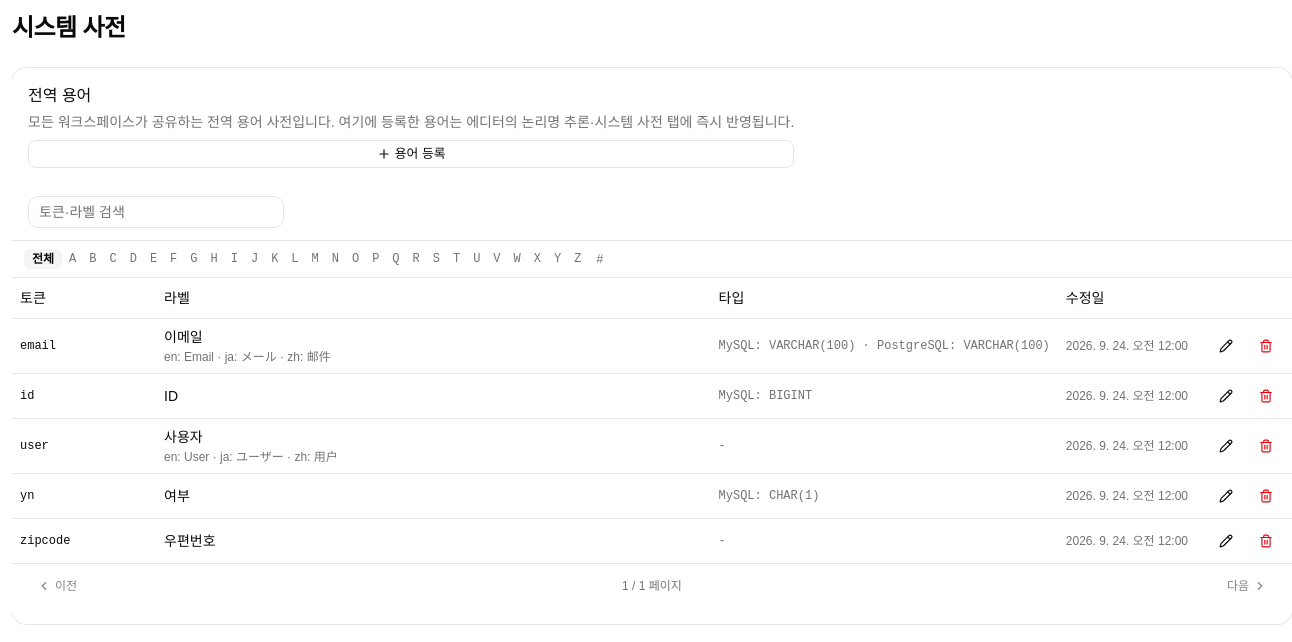
Test: 시스템 사전 관리 화면 › 알파벳 이니셜(e) — 그 이니셜 토큰만 나오고 전체로 돌아간다
Check: the row with test id "system-term-row-email" is shown, box [12, 318, 1291, 373]
Click the button with test id "admin-term-letter-e" at {"x": 154, "y": 259}, box [144, 249, 163, 269]
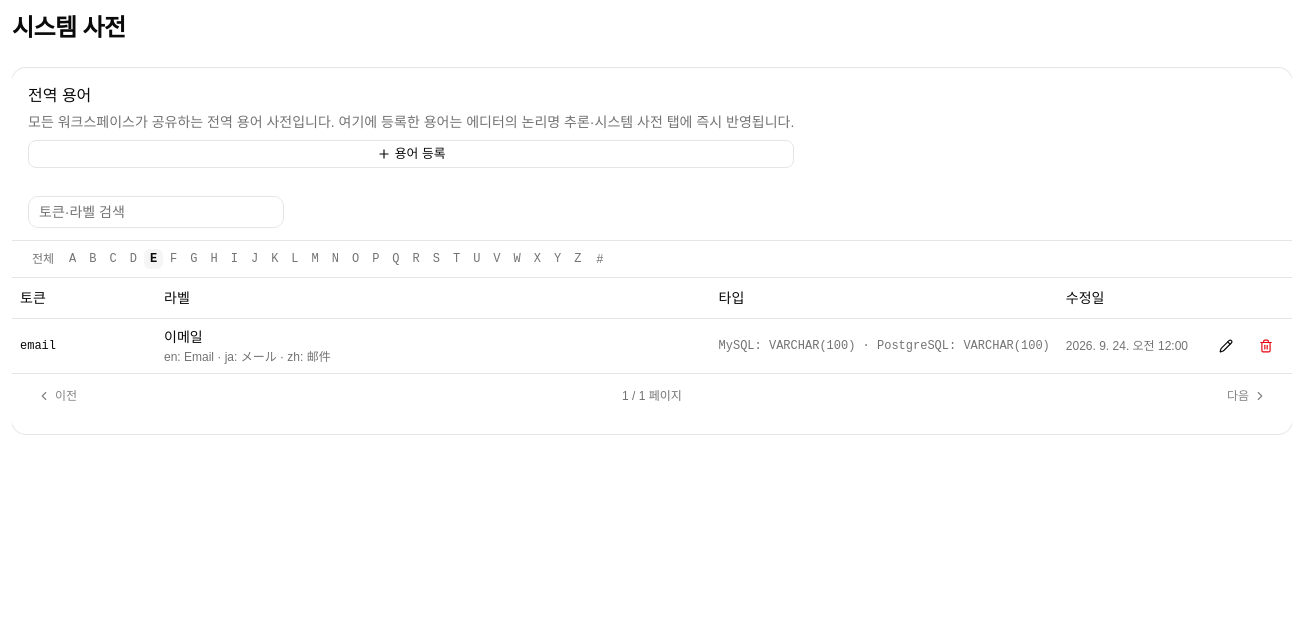
Check: the row with test id "system-term-row-email" is shown, box [12, 318, 1291, 372]
Check: the row with test id "system-term-row-user" is gone
Click the button with test id "admin-term-letter-all" at {"x": 43, "y": 259}, box [24, 249, 62, 269]
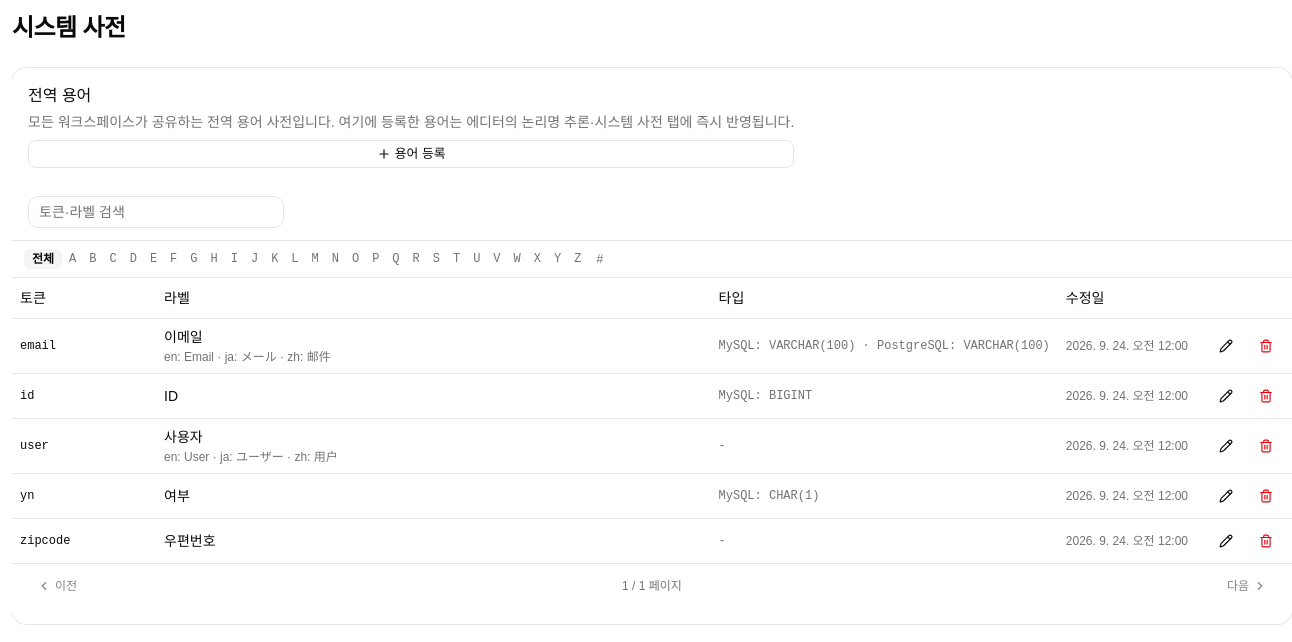
Check: the row with test id "system-term-row-user" is shown, box [12, 418, 1291, 473]
